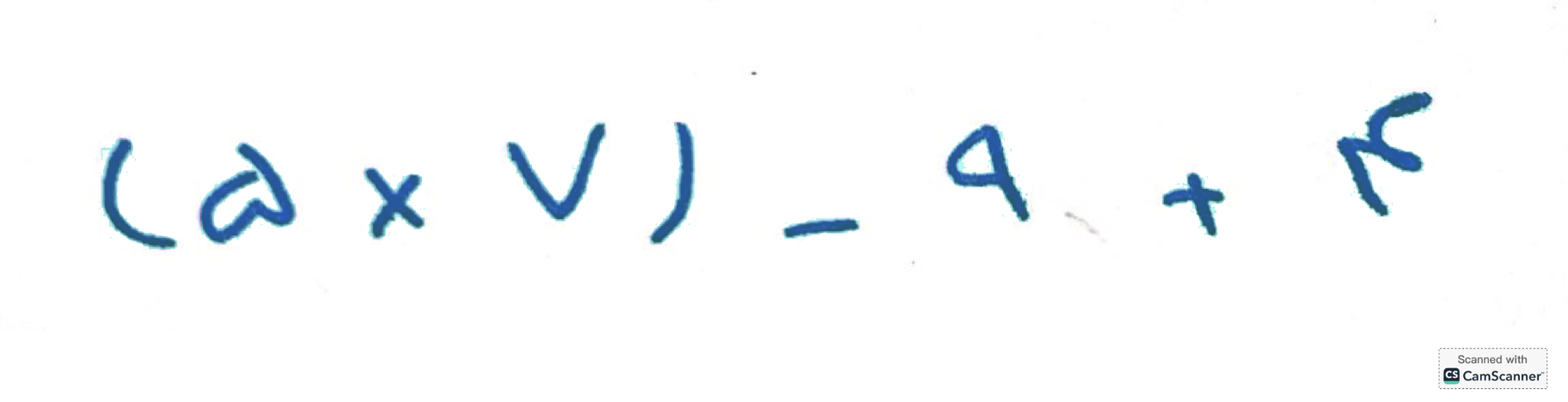character: (827, 171, 942, 277), (543, 157, 625, 301), (687, 151, 763, 290), (1175, 142, 1250, 264), (1324, 140, 1361, 275), (357, 233, 426, 297), (1443, 191, 1501, 257), (162, 182, 195, 277), (244, 230, 293, 290), (1038, 237, 1111, 259)
